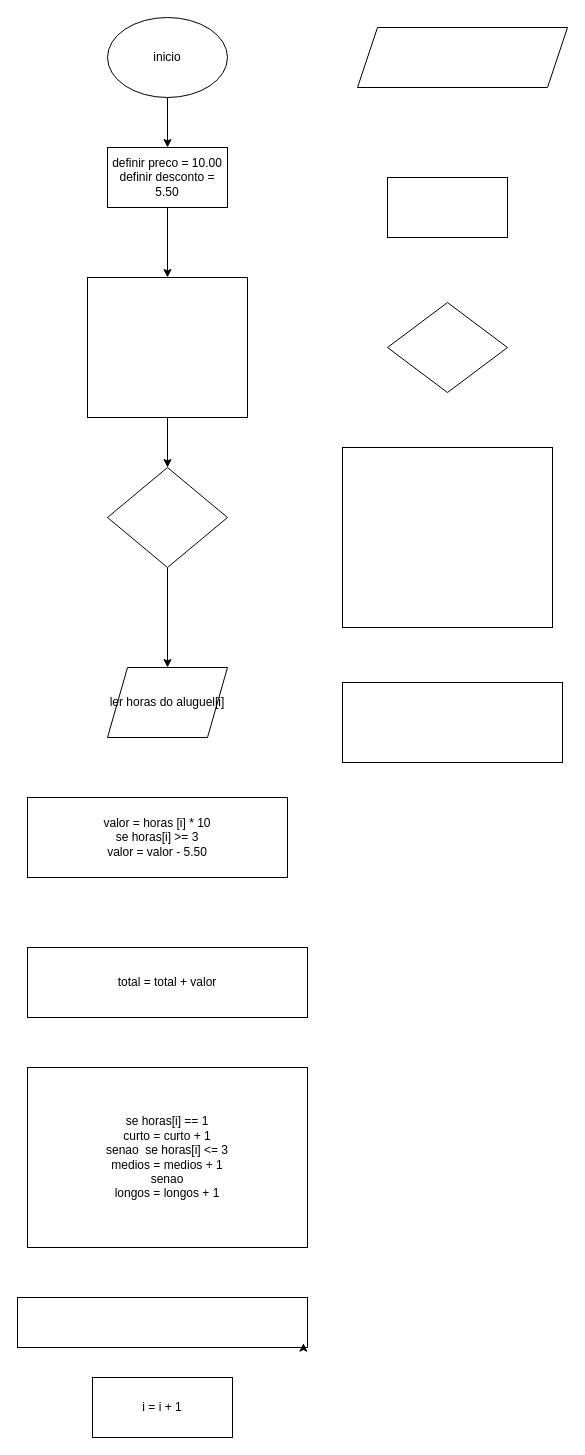
The diagram is 585 pixels wide and 1455 high, and some of its shapes have lost their labels. The shapes that lost their labels are listed below. From the top down, each one's centre as x and y in pixels, then its label:
At (x=167, y=347): "i = 0 curtos = 0 medios = 0 longos = 0 maior = 0 total = 0".
At (x=167, y=517): "i < 5".
At (x=162, y=1322): "se i == 0 ou horas[i] > horas [maior] maior = i".
